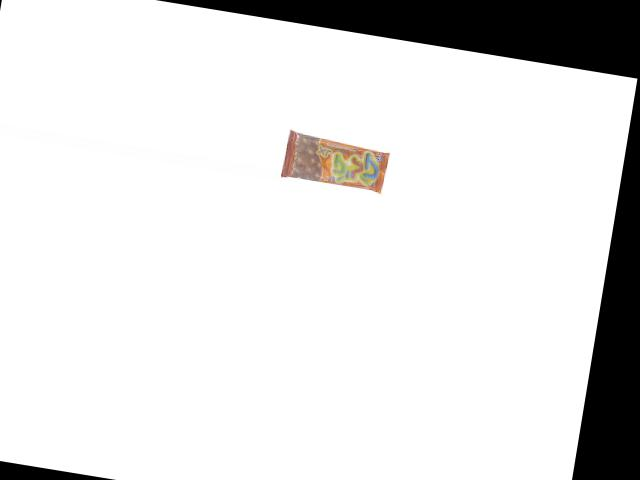chocolate: (280, 131, 390, 194)
